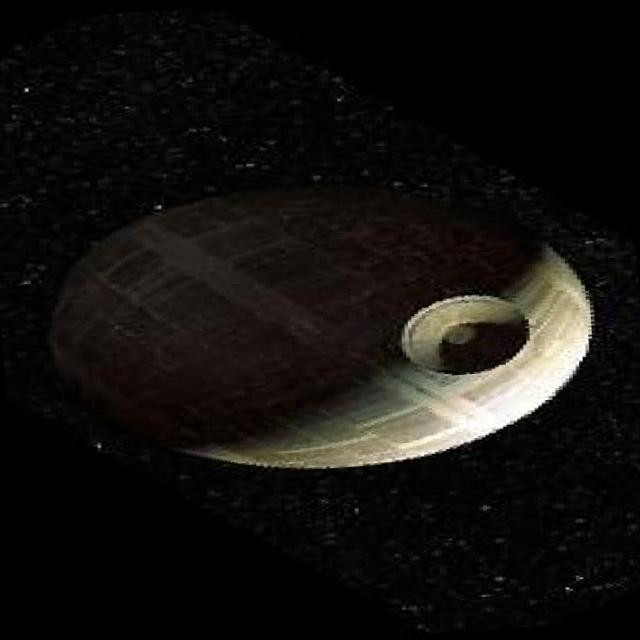Death Star: (35, 160, 610, 490)
